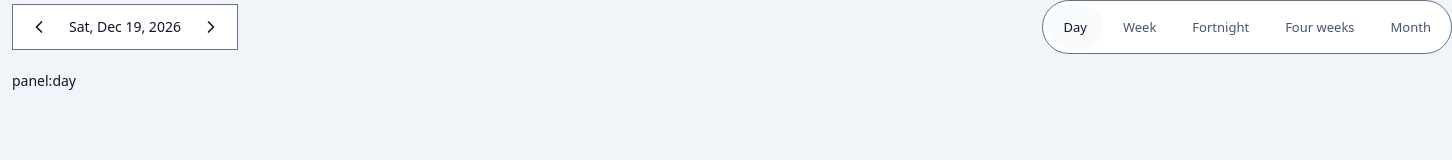
Test: RosterZoom (13.2) › the date navigator steps one unit of the zoom
Check: the element named "Date" reads "Sat, Dec 19, 2026", box [69,17,181,36]
Click the button named "Next day": x=211, y=27 [189,5,233,49]
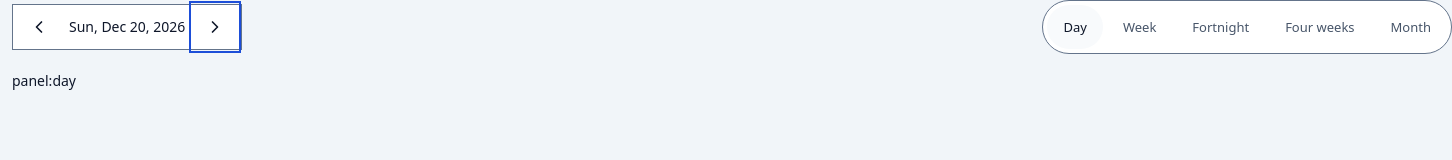
Check: the element named "Date" reads "Sun, Dec 20, 2026", box [69,17,185,36]
Click the tab "Week": x=1140, y=27 [1107,5,1172,49]
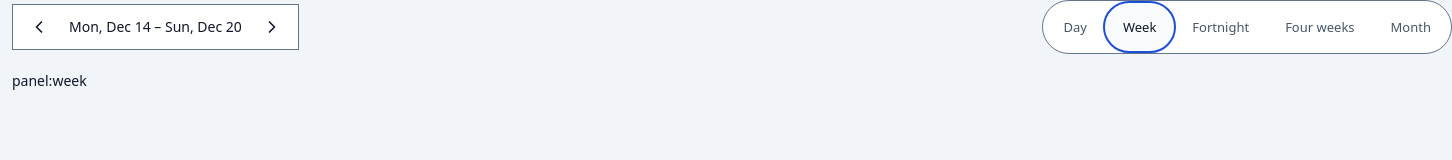
Check: the element named "Date" reads "Mon, Dec 14 – Sun, Dec 20", box [69,17,242,36]
Click the button named "Previous week": x=39, y=27 [17,5,61,49]
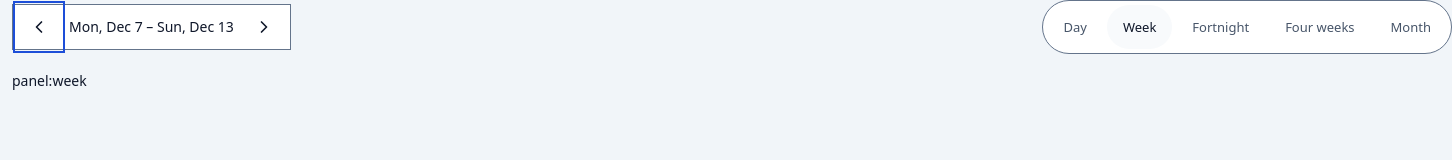
Check: the element named "Date" reads "Mon, Dec 7 – Sun, Dec 13", box [69,17,234,36]
Click the tab "Month": x=1411, y=27 [1375,5,1447,49]
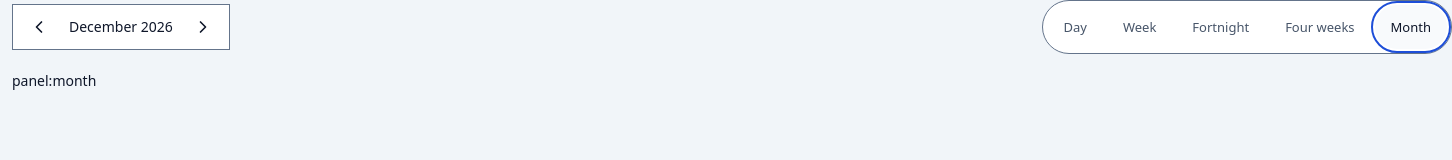
Check: the element named "Date" reads "December 2026", box [69,17,173,36]
